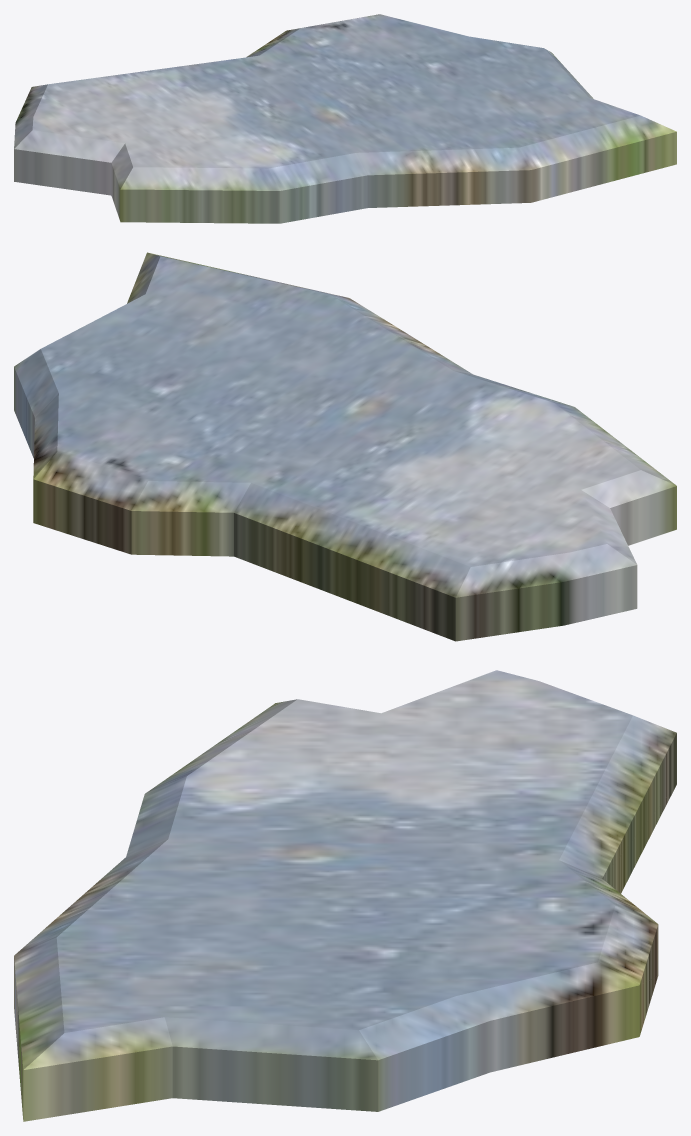
Rendered from stone.06.fbx.
The picture shows the model from 3 angles, top to bottom: view 1: azimuth 30°, elevation 25°; view 2: azimuth 150°, elevation 25°; view 3: azimuth 270°, elevation 25°; orthographic projection. The views are drawn at different scales.
Visible parts, largest first — view 1: stone.06; view 2: stone.06; view 3: stone.06.
Boxes of the visible parts, box(x1,y1,x2,y2) form: stone.06: box(14, 14, 676, 223); stone.06: box(14, 252, 676, 641); stone.06: box(14, 670, 676, 1121).
Bounding box in the file's own units: 117 × 9.74 × 82.43.
1 material, 1 textured.
